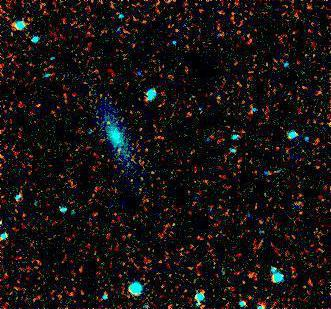star: (101, 126, 131, 156)
